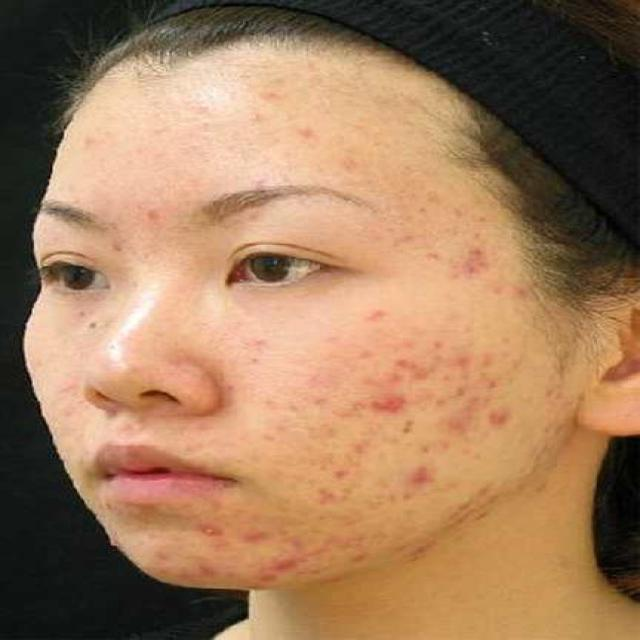Acne: (300, 314, 494, 483), (155, 514, 364, 582)
